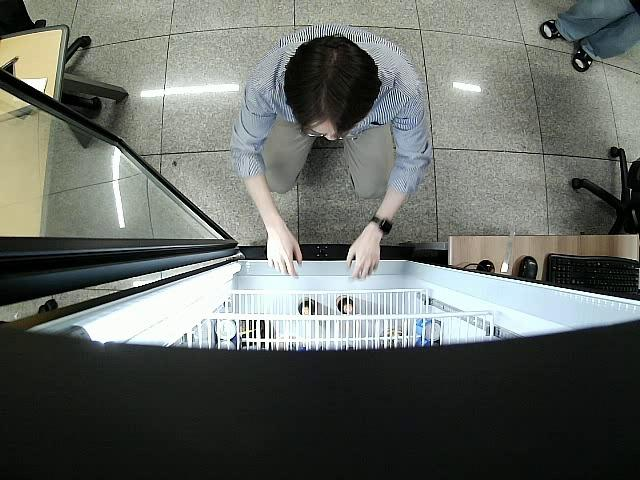00_hand: (265, 231, 303, 278), (347, 237, 380, 282)
